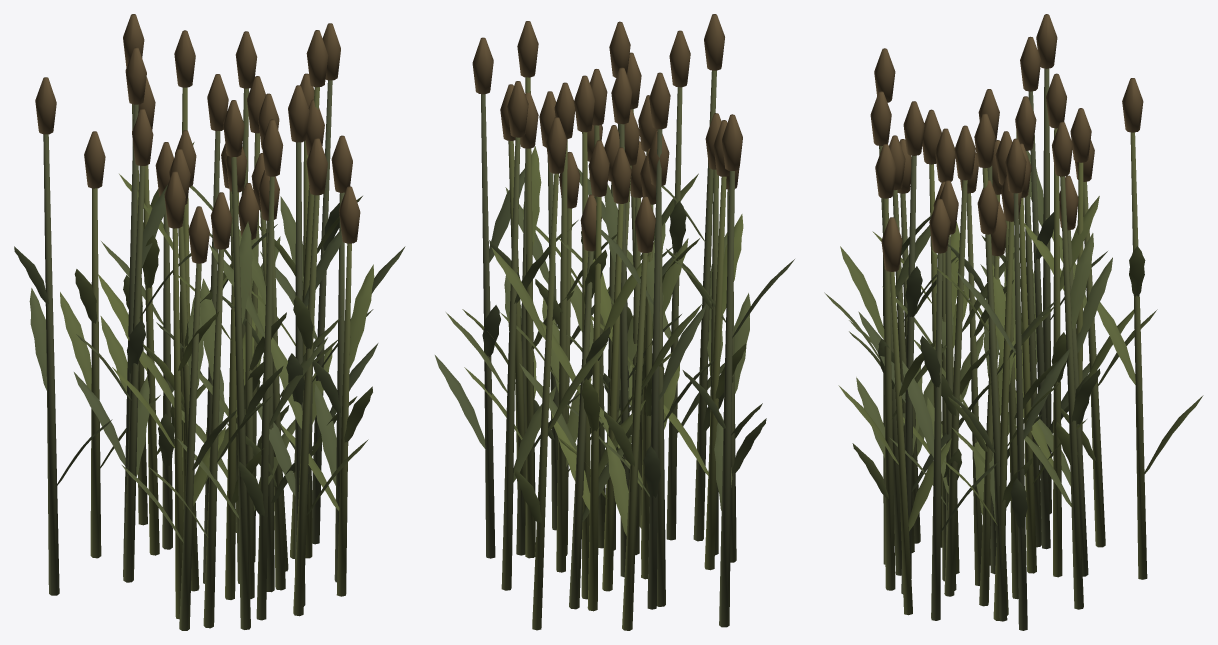
File: reed-24-lod0.gltf
3 views of the same model, side by side, from view 1: azimuth 30°, elevation 25°; view 2: azimuth 150°, elevation 25°; view 3: azimuth 270°, elevation 25° (orthographic). The views are drawn at different scales.
Visible parts, largest first — view 1: Reed 24 L0; view 2: Reed 24 L0; view 3: Reed 24 L0.
Part boxes in pixels (bbox=[...]): Reed 24 L0: bbox=[14, 14, 405, 630]; Reed 24 L0: bbox=[435, 14, 794, 630]; Reed 24 L0: bbox=[824, 14, 1203, 630].
Size of the model in its own units: 0.8974 by 1.25 by 0.8477.
